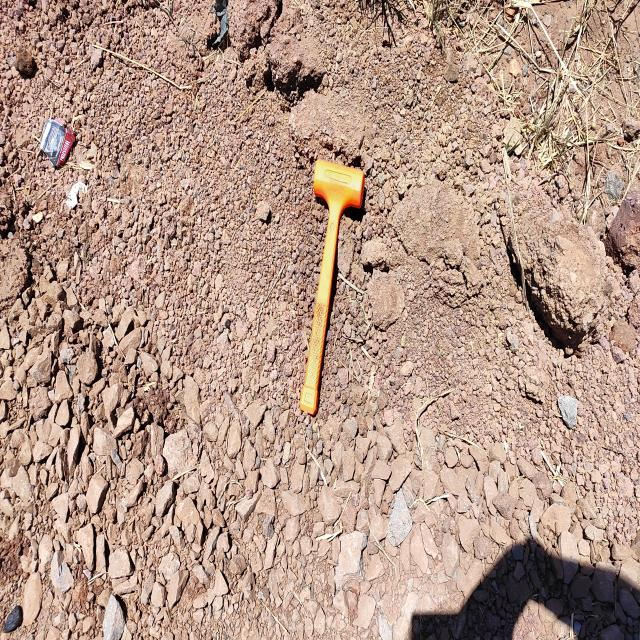Orange_hammer: (299, 158, 365, 416)
